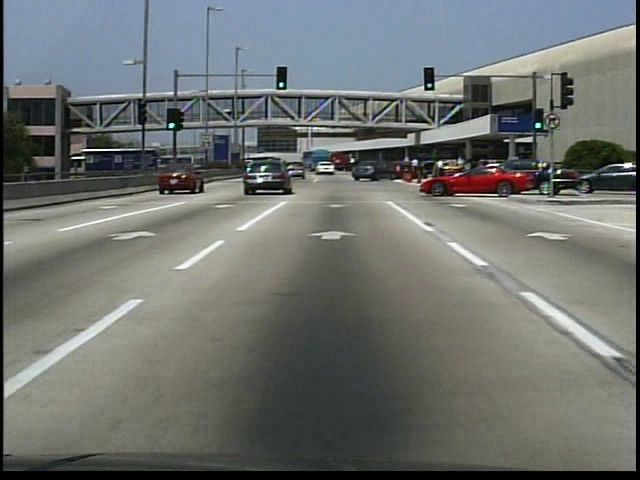person: (410, 158, 422, 184), (435, 159, 446, 180), (227, 109, 234, 124)
